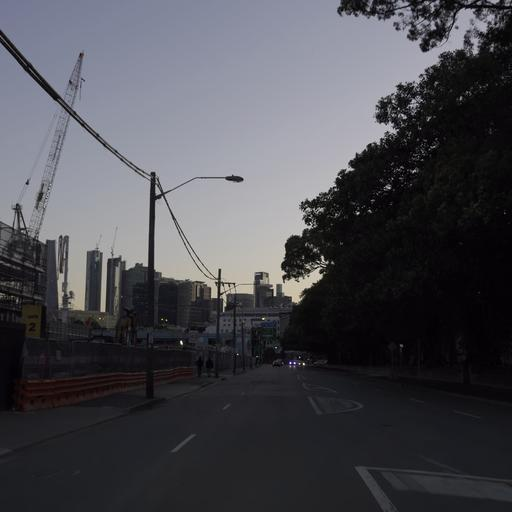Street light: (144, 171, 244, 398), (231, 281, 260, 373), (215, 281, 236, 375)
